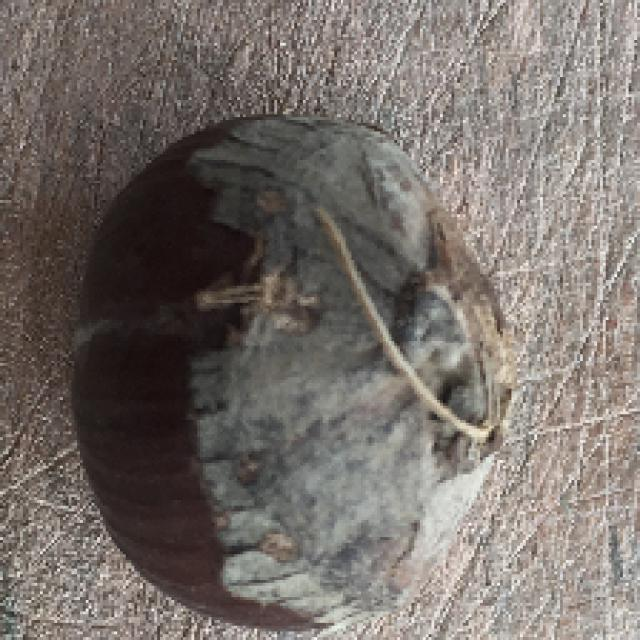damagedHazelnut: (85, 88, 528, 640)
